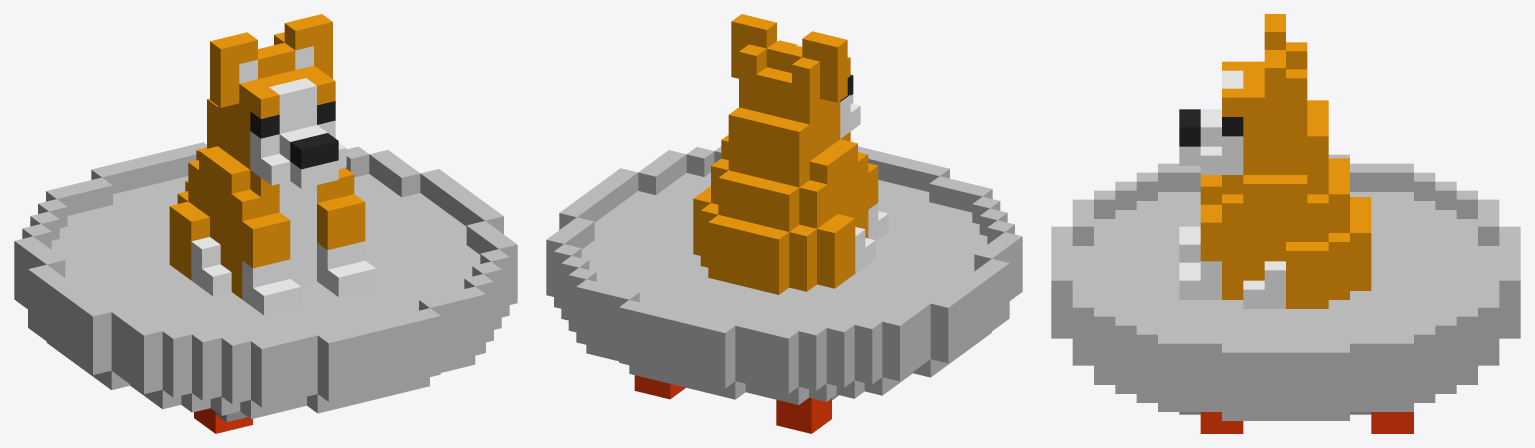
File: Shiva_Dog_1.obj
3 renders of one model, left to right at view 1: azimuth 30°, elevation 25°; view 2: azimuth 150°, elevation 25°; view 3: azimuth 270°, elevation 25°, orthographic. The views are drawn at different scales.
Bounding box in the file's own units: 2.2 × 1.8 × 2.2.
Materials: 1 (1 with a texture image).
